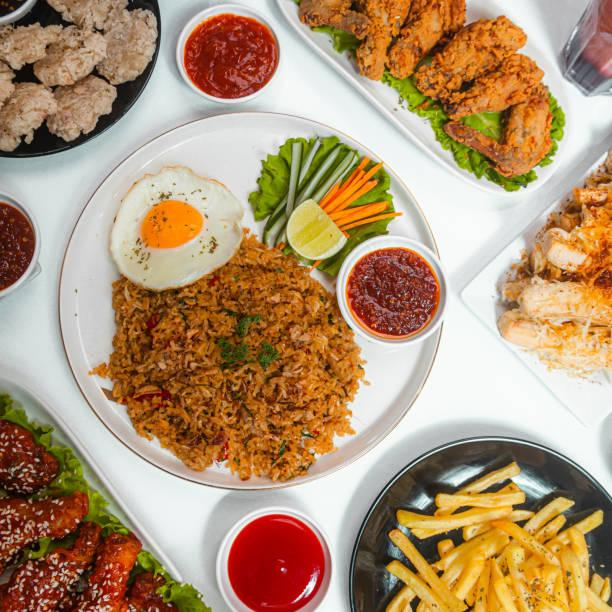Braised Crucian Carp: (61, 111, 435, 490), (271, 0, 577, 196), (347, 436, 612, 612), (458, 134, 612, 431), (0, 0, 160, 158)
